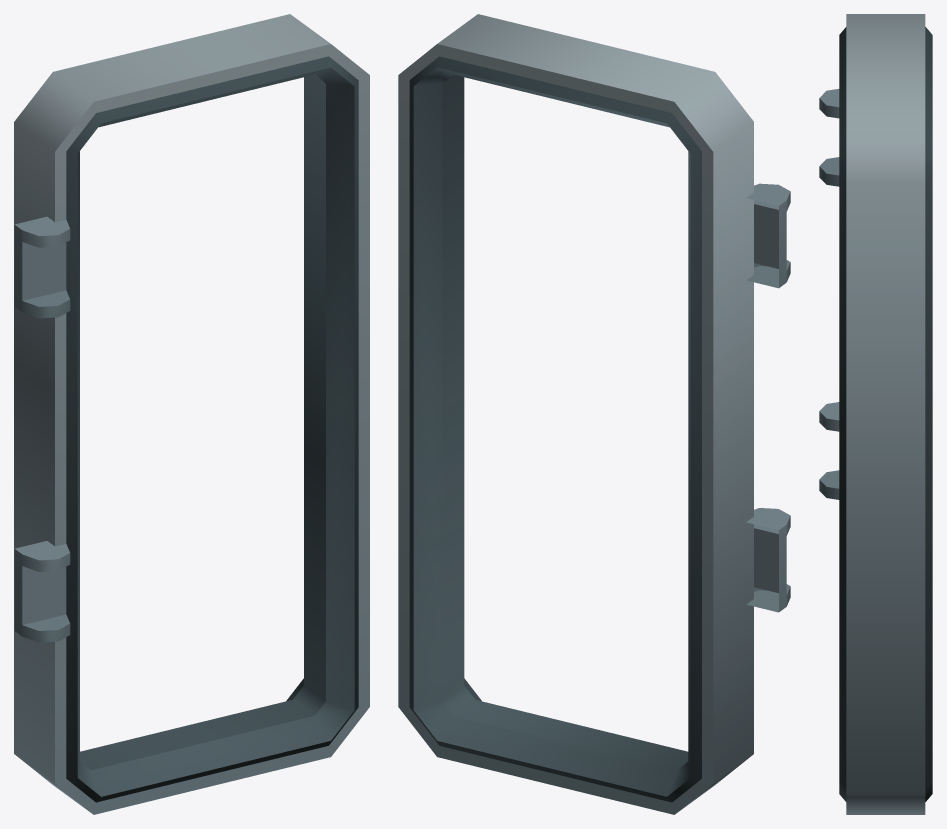
The model's file is Door_005.fbx.
3 renders of one model, left to right at view 1: azimuth 30°, elevation 25°; view 2: azimuth 150°, elevation 25°; view 3: azimuth 270°, elevation 25°, orthographic. The views are drawn at different scales.
Parts seen in each view (by area): view 1: Door_005; view 2: Door_005; view 3: Door_005.
Part boxes in pixels (x1,y1,x2,y2): Door_005: [14, 14, 369, 814]; Door_005: [398, 14, 790, 814]; Door_005: [819, 14, 932, 814].
Size of the model in its own units: 140 by 41.03 by 276.
